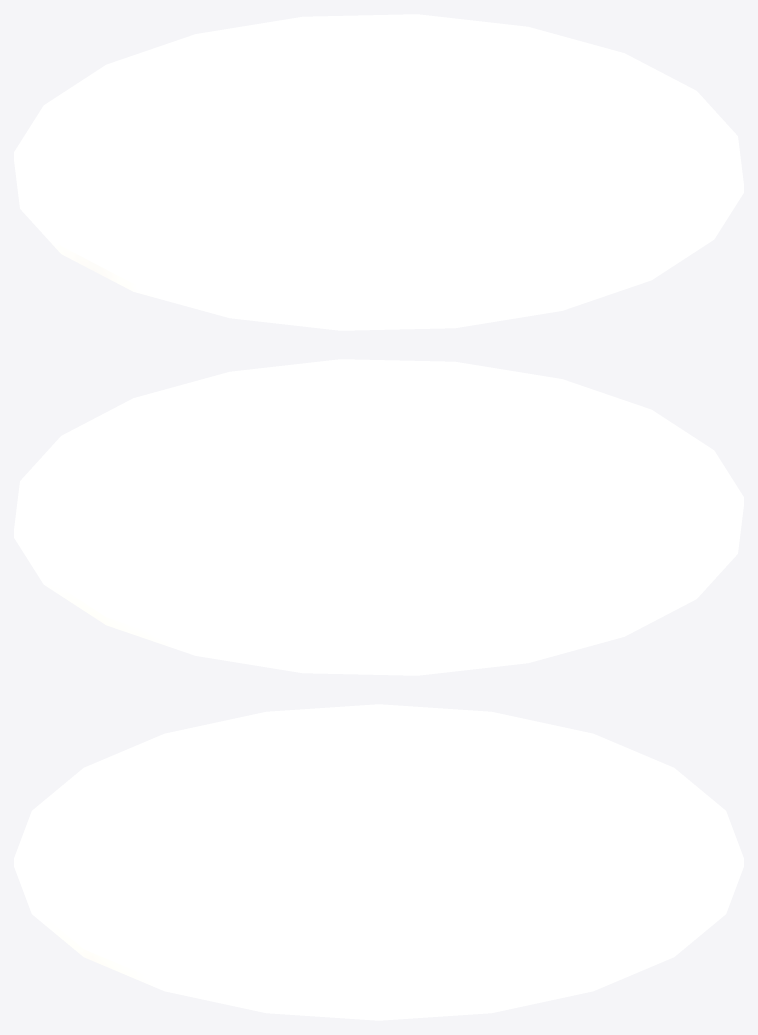
Rendered from tavern_plate.glb.
3 views of the same model, one above another, from view 1: azimuth 30°, elevation 25°; view 2: azimuth 150°, elevation 25°; view 3: azimuth 270°, elevation 25° (orthographic).
Parts seen in each view (by area): view 1: defaultMaterial.009; view 2: defaultMaterial.009; view 3: defaultMaterial.009.
Boxes of the visible parts, x1,y1,x2,y2 form: defaultMaterial.009: [14, 14, 743, 330]; defaultMaterial.009: [14, 359, 743, 675]; defaultMaterial.009: [14, 704, 743, 1020].
Size of the model in its own units: 0.5812 by 0.0466 by 0.5812.
1 material, 1 textured.
